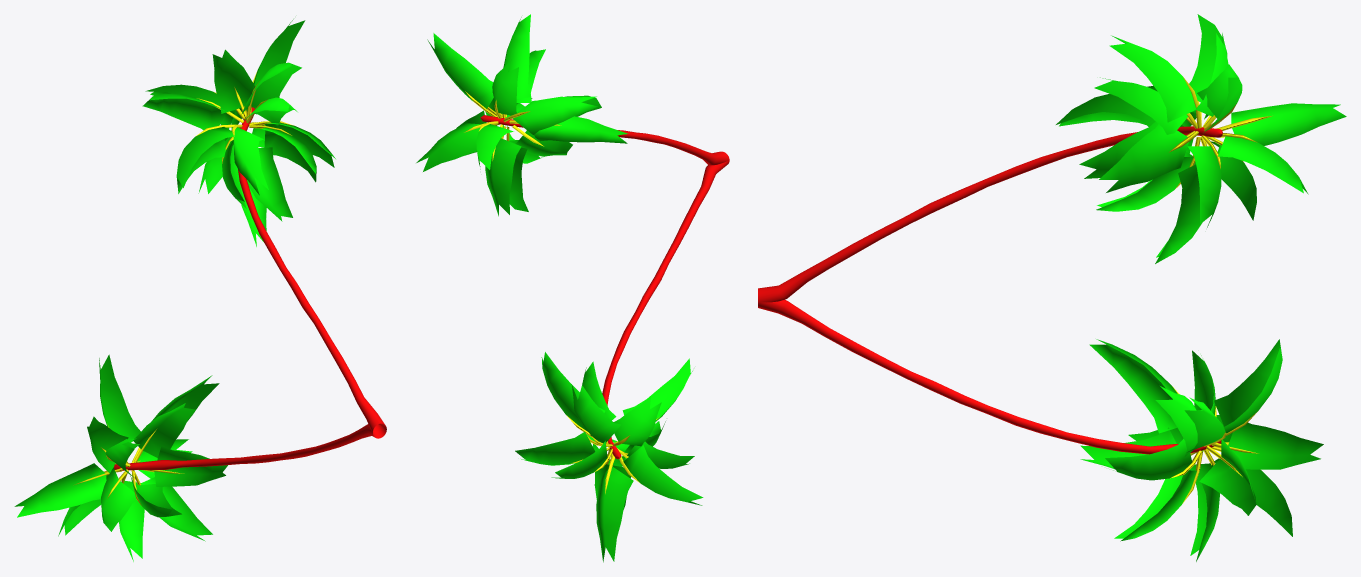
Rendered from M_P10_Tree_14.FBX.
The picture shows the model from 3 angles, left to right: view 1: azimuth 30°, elevation 25°; view 2: azimuth 150°, elevation 25°; view 3: azimuth 270°, elevation 25°; orthographic projection. The views are drawn at different scales.
Parts seen in each view (by area): view 1: M_P10_Tree_14_LOD0; view 2: M_P10_Tree_14_LOD0; view 3: M_P10_Tree_14_LOD0.
Boxes of the visible parts, x1=… form: M_P10_Tree_14_LOD0: x1=14, y1=19, x2=386, y2=561; M_P10_Tree_14_LOD0: x1=416, y1=14, x2=729, y2=562; M_P10_Tree_14_LOD0: x1=758, y1=14, x2=1346, y2=561.
Size of the model in its own units: 422 by 607 by 681.
